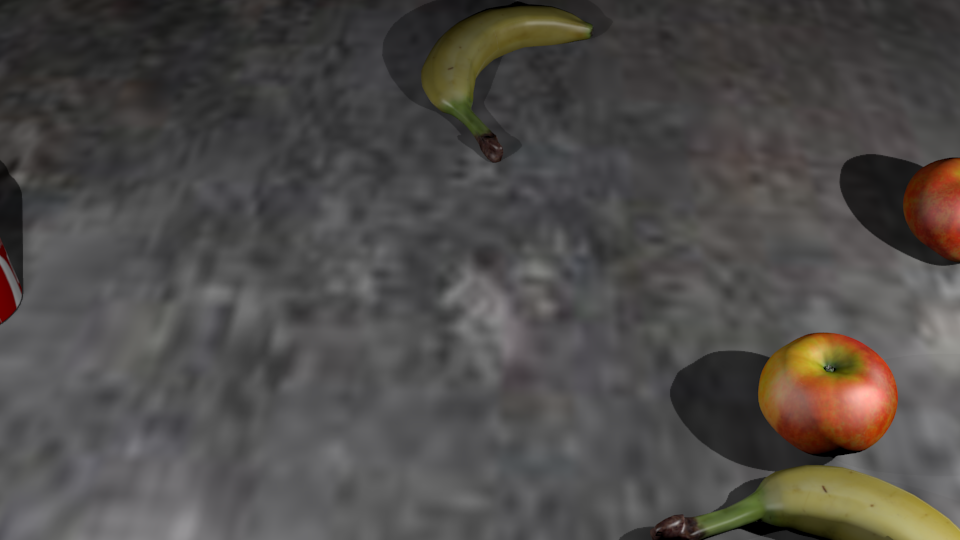apple: (759, 333, 899, 450), (904, 159, 960, 260)
banana: (423, 12, 594, 163), (651, 466, 960, 540)
cola_can: (1, 239, 22, 324)
